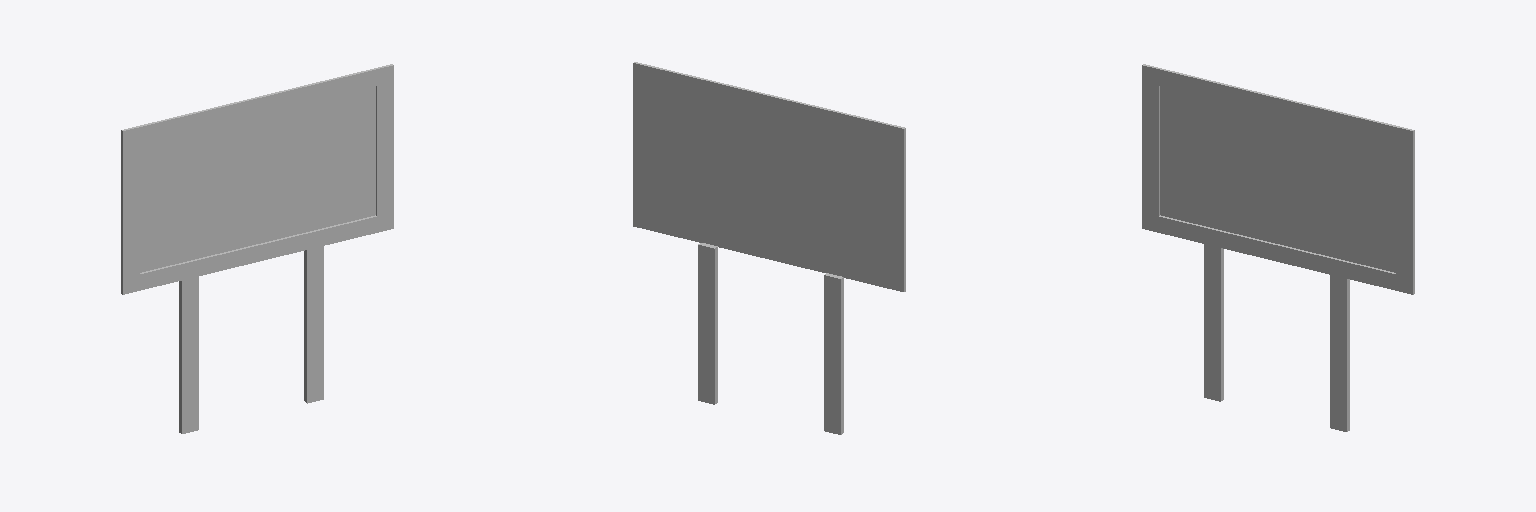
Rendered from 立牌子.obj.
The picture shows the model from 3 angles: view 1: azimuth 30°, elevation 25°; view 2: azimuth 150°, elevation 25°; view 3: azimuth 330°, elevation 25°; orthographic projection.
Visible parts, largest first — view 1: 牌子, 牌子柱子1, 牌子柱子; view 2: 牌子, 牌子柱子, 牌子柱子1; view 3: 牌子, 牌子柱子1, 牌子柱子.
Boxes of the visible parts, <box> form: 牌子: <box>121,64,393,294</box>; 牌子柱子1: <box>179,276,198,433</box>; 牌子柱子: <box>304,246,323,403</box>; 牌子: <box>633,62,905,291</box>; 牌子柱子: <box>698,243,717,404</box>; 牌子柱子1: <box>824,273,843,434</box>; 牌子: <box>1142,64,1414,294</box>; 牌子柱子1: <box>1204,244,1223,401</box>; 牌子柱子: <box>1330,275,1349,431</box>.
Size of the model in its own units: 1283 by 1444 by 39.63.